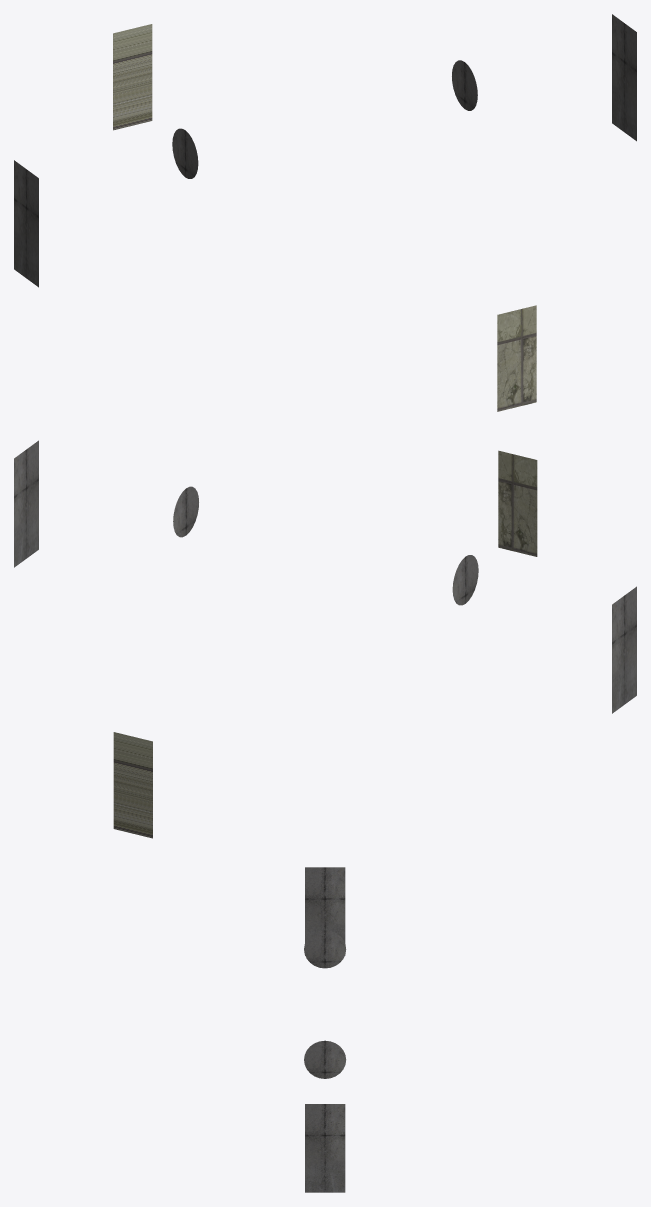
File: SM_LDFest_10_Fog.fbx
3 renders of one model, top to bottom at view 1: azimuth 30°, elevation 25°; view 2: azimuth 150°, elevation 25°; view 3: azimuth 270°, elevation 25°, orthographic. The views are drawn at different scales.
Visible parts, largest first — view 1: SM_LDFest_10_Fog; view 2: SM_LDFest_10_Fog; view 3: SM_LDFest_10_Fog.
Boxes of the visible parts, x1,y1,x2,y2 form: SM_LDFest_10_Fog: (14,14,636,411); SM_LDFest_10_Fog: (14,440,636,838); SM_LDFest_10_Fog: (304,867,346,1192).
Size of the model in its own units: 4039 by 1100 by 4496.
